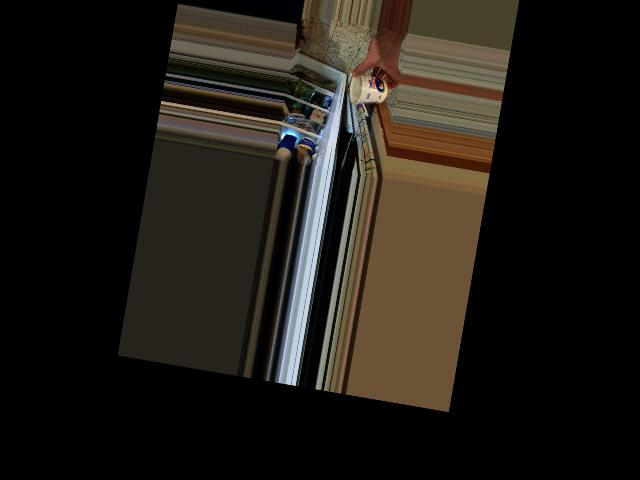cotage: (344, 64, 394, 110)
